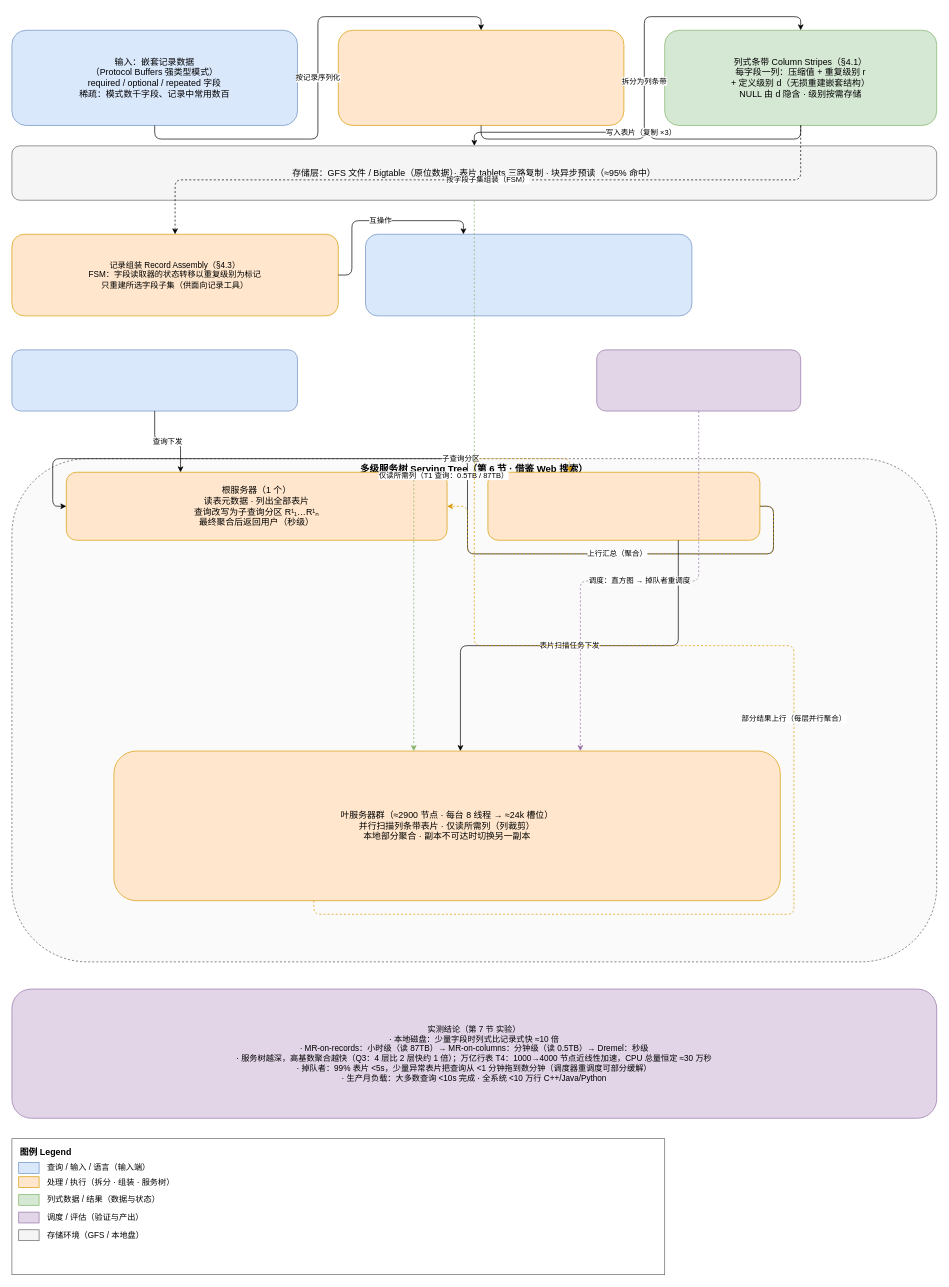
Image size: 949x1287. Some labels were removed from this diagram. Here are the shapes that lost their labels. From the top down, the centre of each, then its label:
(x=481, y=77): 拆分 DissectRecord（§4.2） 字段写入器 Field Writers 树 递归计算重复级别 r / 定义级别 d 子写入器惰性继承父级别
(x=528, y=275): MR / Sawzall 等面向记录的系统 消费列式存储中的重建记录 （MR-on-columns：87TB → 0.5TB 读取）
(x=154, y=380): 交互式查询（SQL 风格 · 第 5 节） SELECT / WHERE / GROUP BY / 记录内聚合 （WITHIN）、子查询、top-k、用户函数
(x=698, y=380): 查询调度器（第 6 节） 多用户优先级 · 槽位调度（≈24k 槽） 表片处理直方图 → 掉队者重调度· 最小扫描百分比参数（98% 可加速）
(x=623, y=506): 中间层（例如 1:100:1:2900） 继续分区与重写 · 并行汇总部分结果
